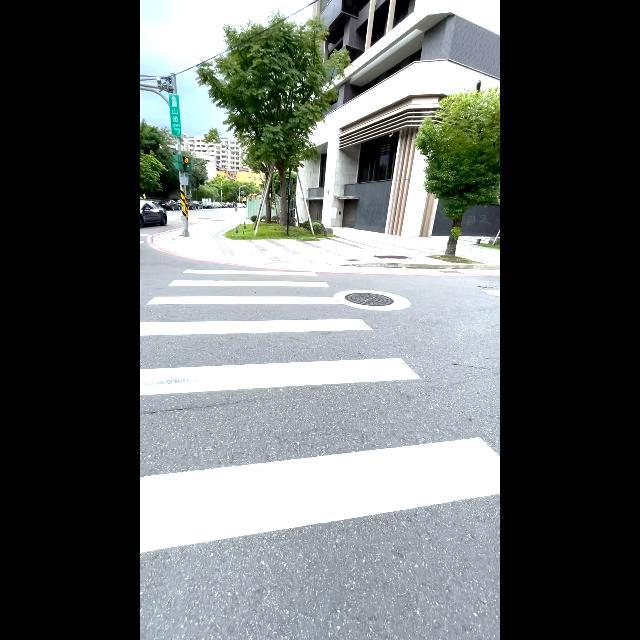sidewalk: (141, 268, 500, 556)
